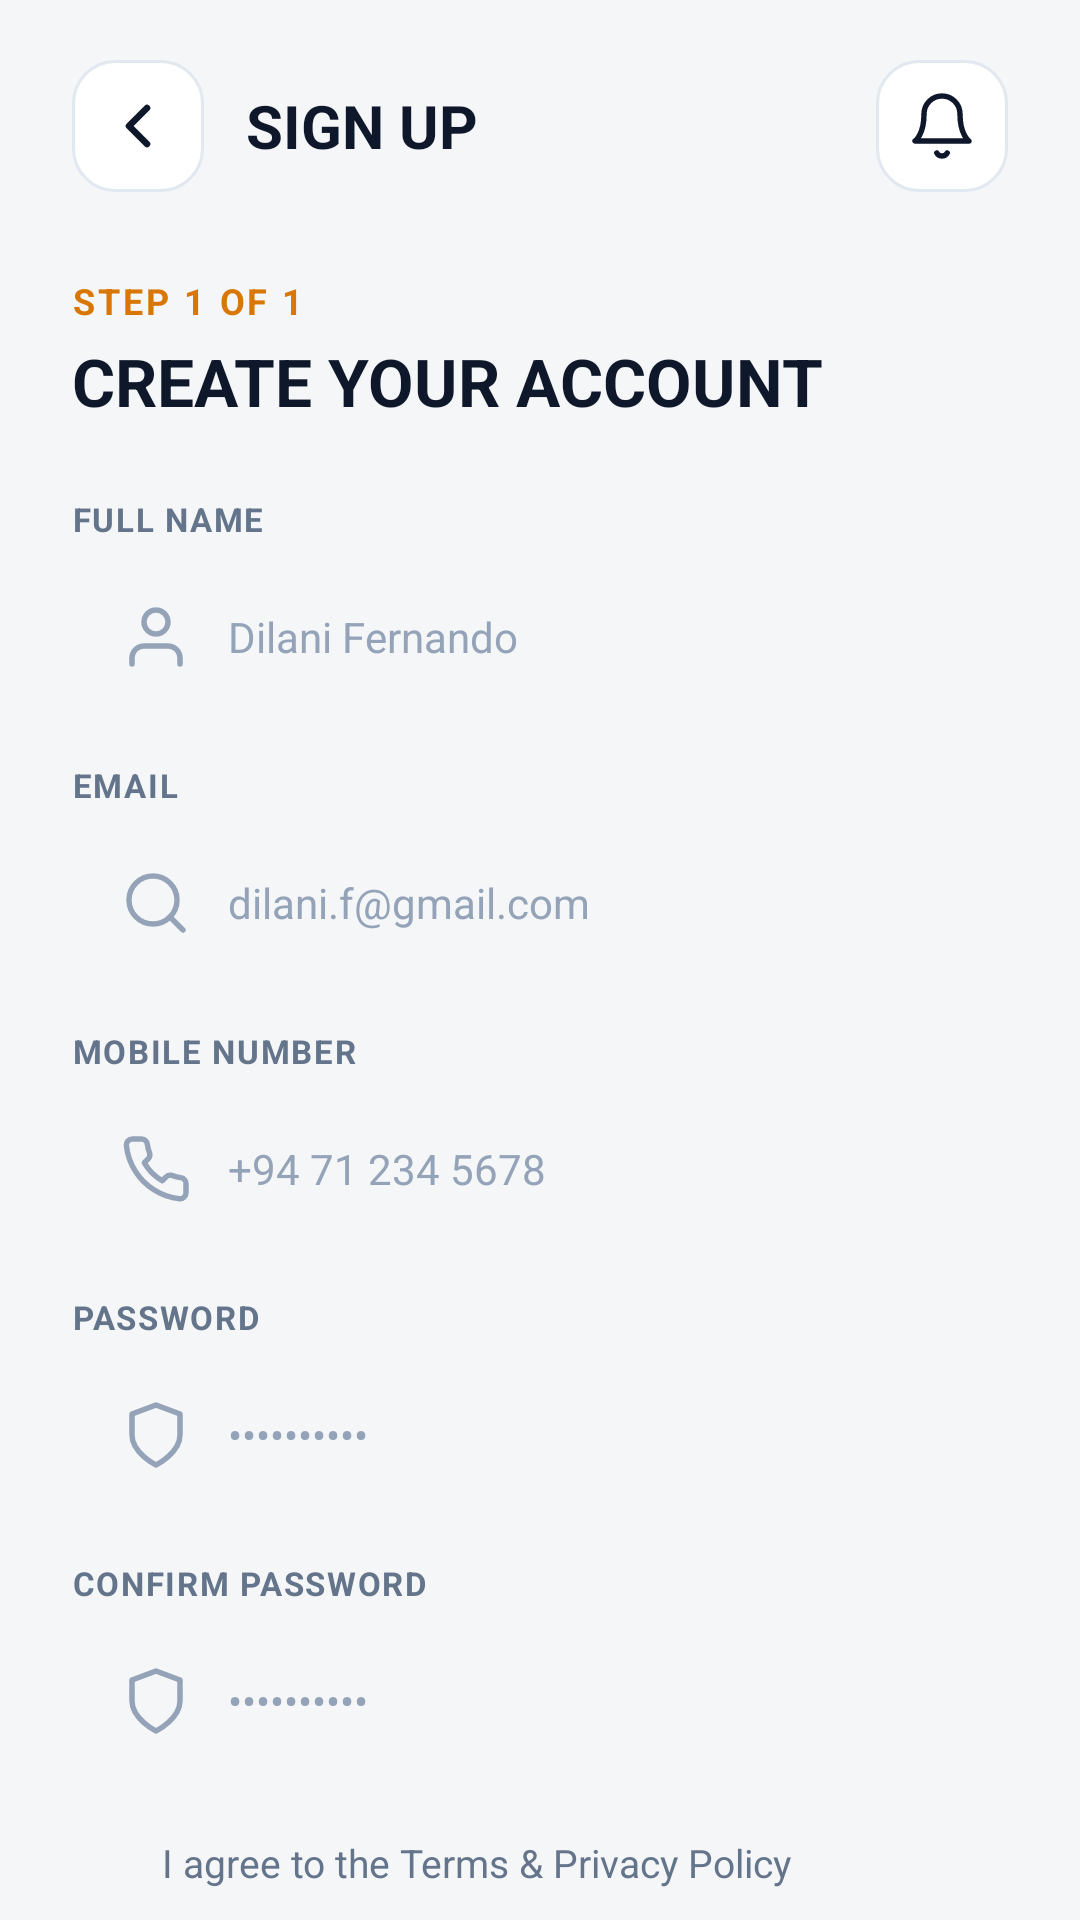

Point at icon controls on the screen. Image size 1080x1920, points as (x,y).
Back: (138,126)
Notifications: (942,126)
